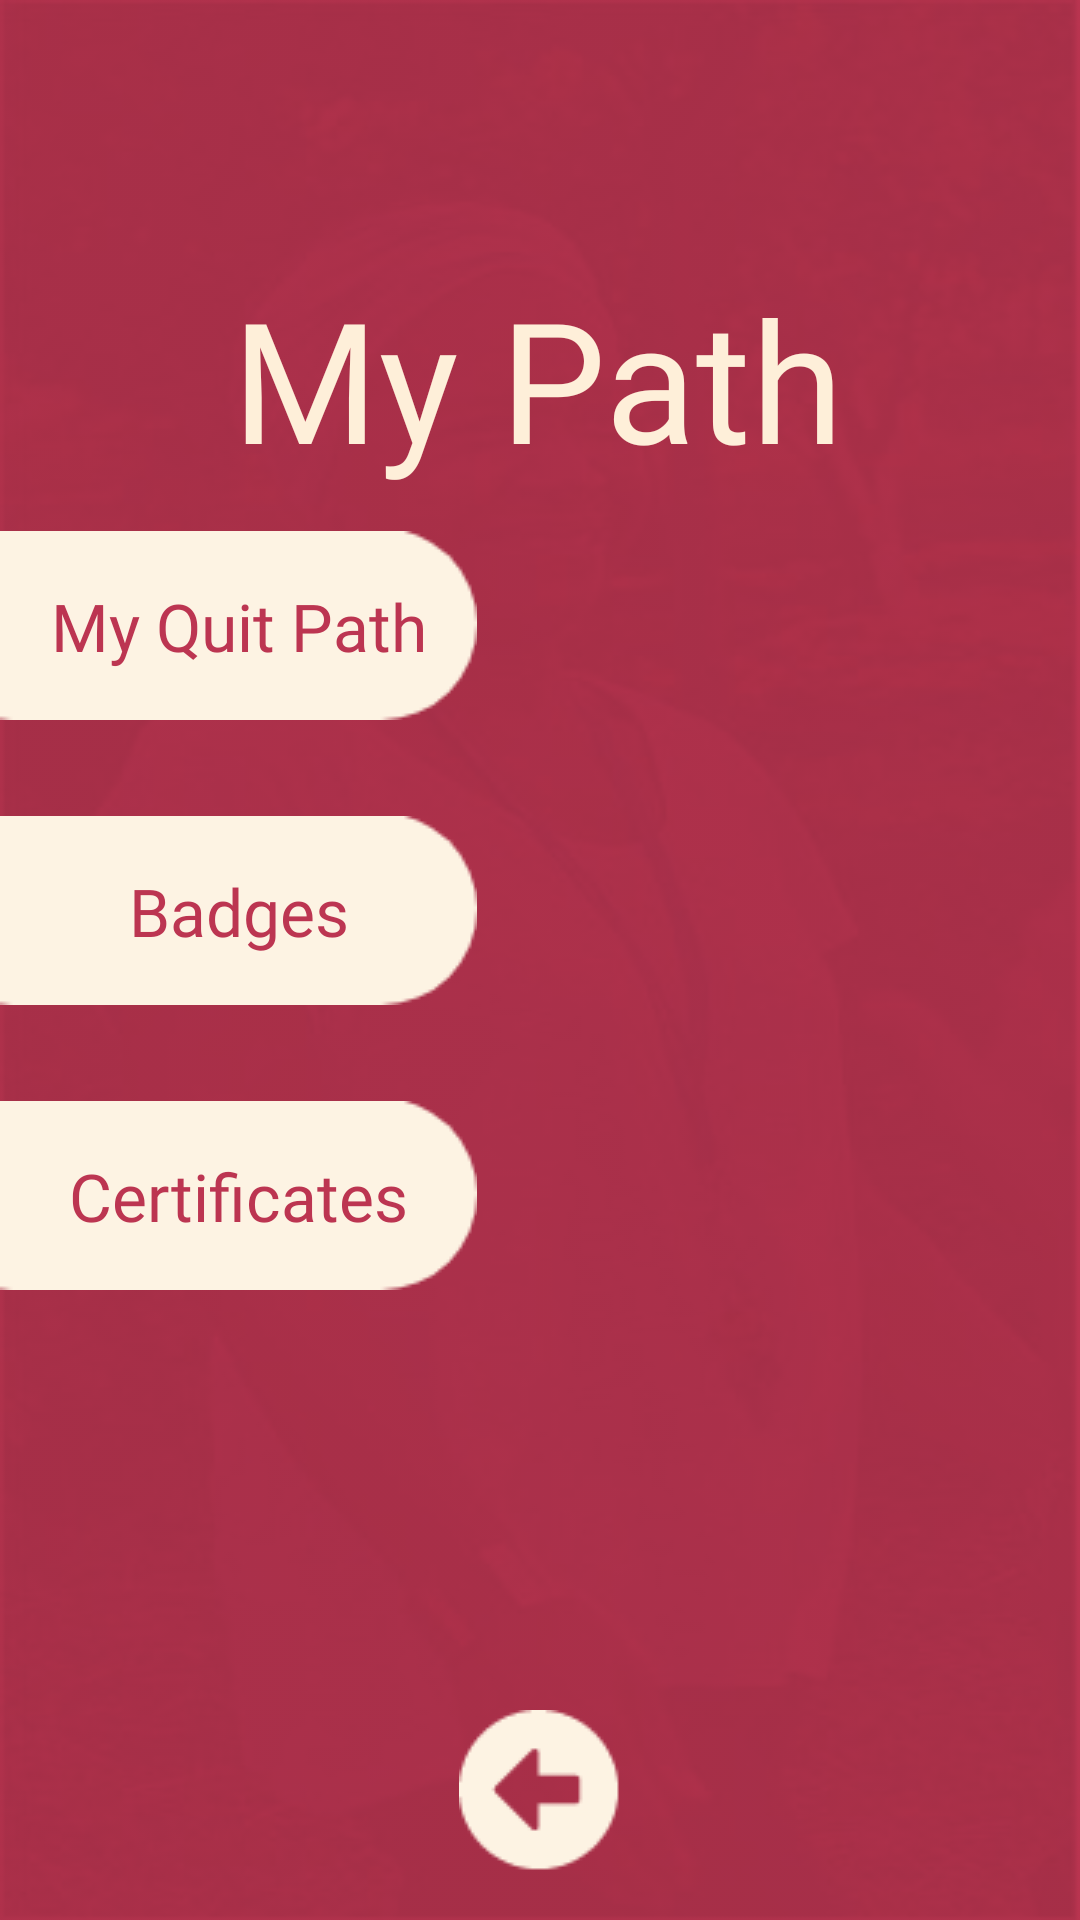

Screen size 1080w x 1920h. Icon name, then its center in pixels as (x,y):
back: (539,1790)
